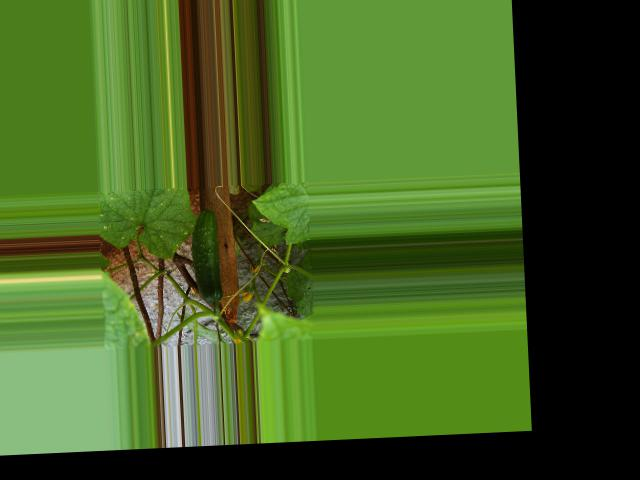cucumber: (190, 208, 223, 304)
